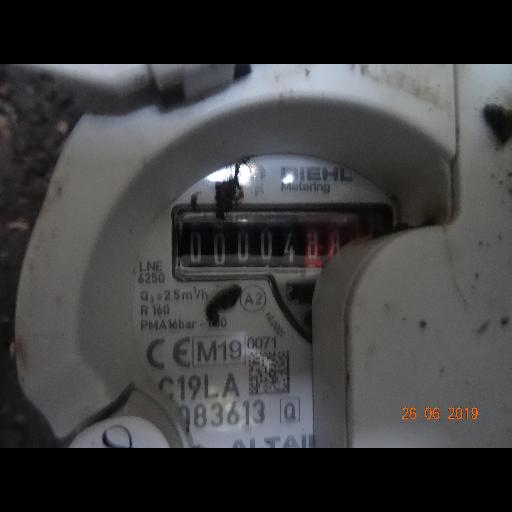0: (182, 219, 208, 269), (207, 218, 232, 268), (254, 219, 279, 269), (231, 219, 256, 268)
4: (277, 218, 304, 270)
8: (302, 220, 327, 269), (325, 221, 350, 266)
border_water_meter_number: (171, 203, 393, 282)
